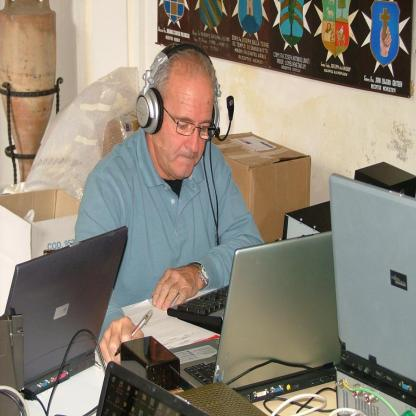board: (165, 229, 341, 403), (5, 232, 126, 406), (329, 174, 416, 394), (96, 360, 211, 416)
